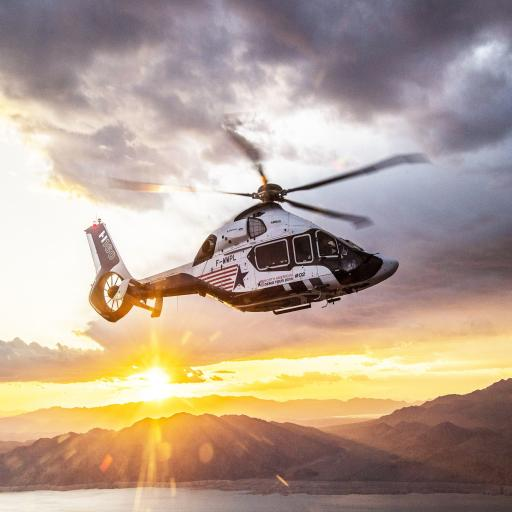helicopter: (74, 124, 427, 325)
